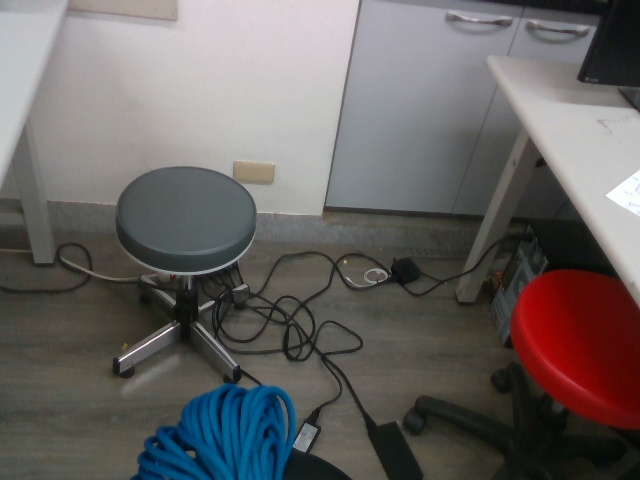rope: (122, 380, 297, 480)
